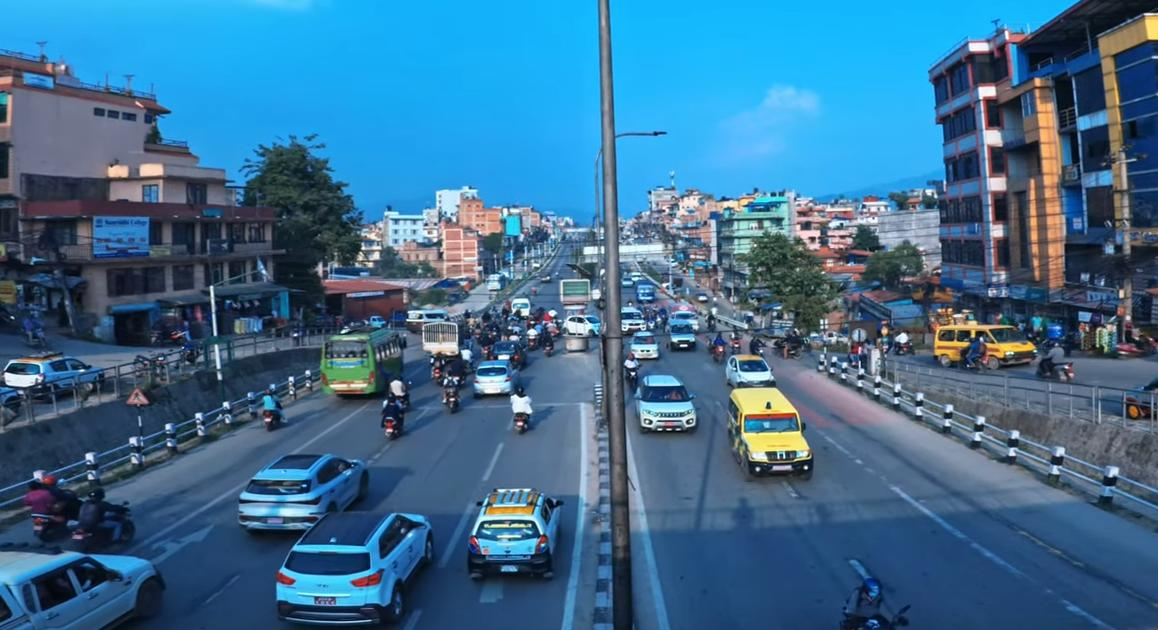SUV: (618, 306, 648, 332)
ambulance: (730, 388, 825, 488)
bus: (321, 321, 407, 399)
car: (268, 506, 437, 630), (226, 450, 375, 541), (638, 373, 701, 437), (471, 358, 521, 396), (628, 329, 660, 362), (562, 313, 603, 334)
taxi: (465, 485, 567, 586), (724, 353, 777, 389)
